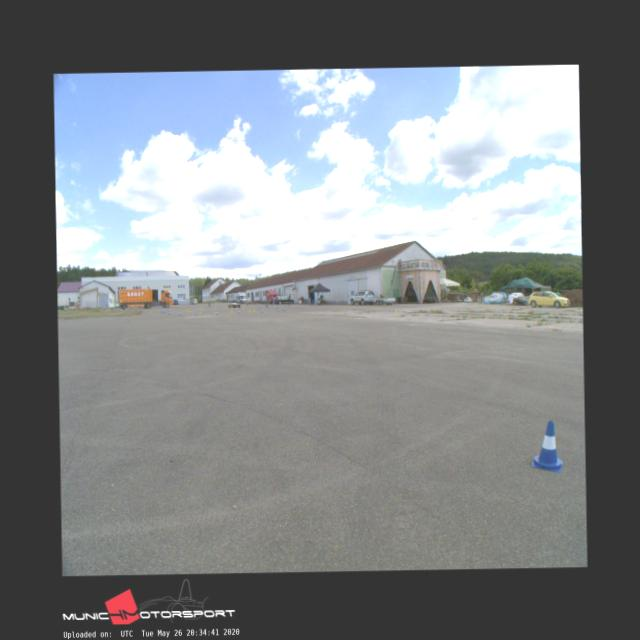blue_cone: (530, 419, 563, 472)
